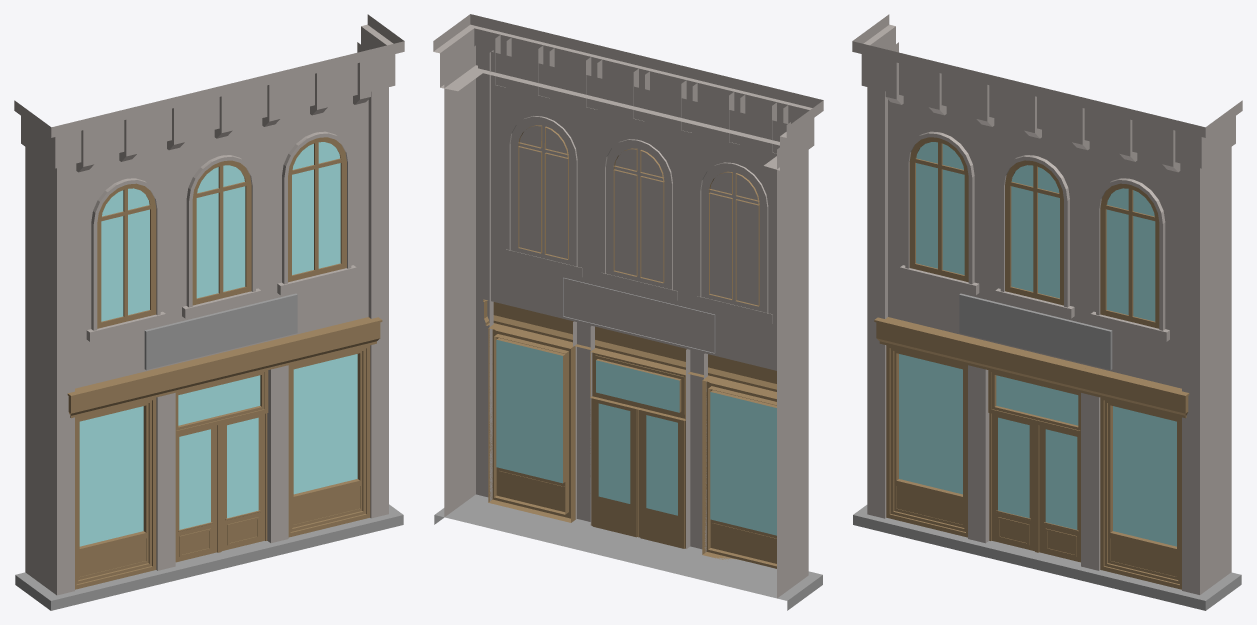
File: oldtown_facade_2_mergetest.fbx
The picture shows the model from 3 angles, left to right: view 1: azimuth 30°, elevation 25°; view 2: azimuth 150°, elevation 25°; view 3: azimuth 330°, elevation 25°; orthographic projection.
Parts seen in each view (by area): view 1: OLD_TOWN_FACADE_2_merge_test; view 2: OLD_TOWN_FACADE_2_merge_test; view 3: OLD_TOWN_FACADE_2_merge_test.
Part boxes in pixels (bbox=[...]): OLD_TOWN_FACADE_2_merge_test: bbox=[14, 14, 404, 610]; OLD_TOWN_FACADE_2_merge_test: bbox=[433, 14, 823, 610]; OLD_TOWN_FACADE_2_merge_test: bbox=[852, 14, 1242, 610].
Bounding box in the file's own units: 741 × 970 × 135.
